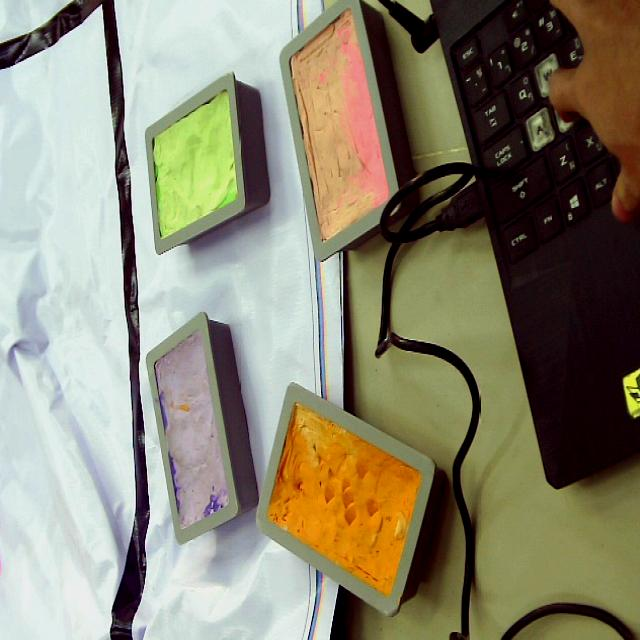block: (256, 382, 443, 618), (277, 0, 418, 262), (145, 311, 259, 543), (143, 72, 269, 256)
